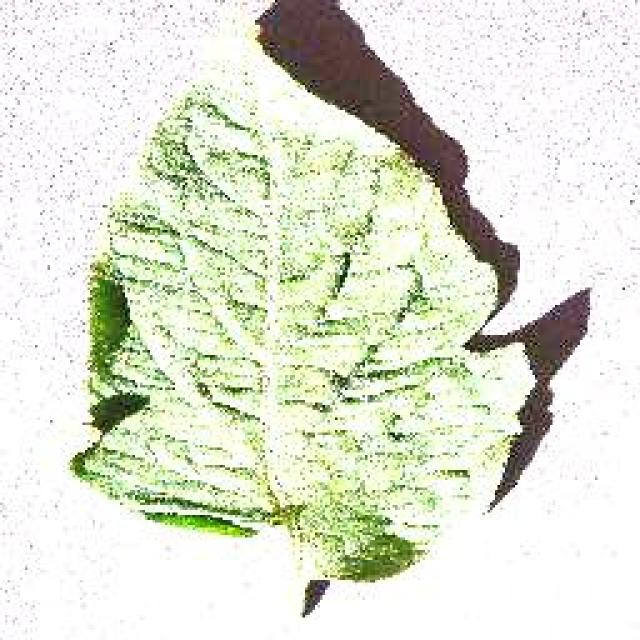Tomato___healthy: (65, 3, 537, 582)
